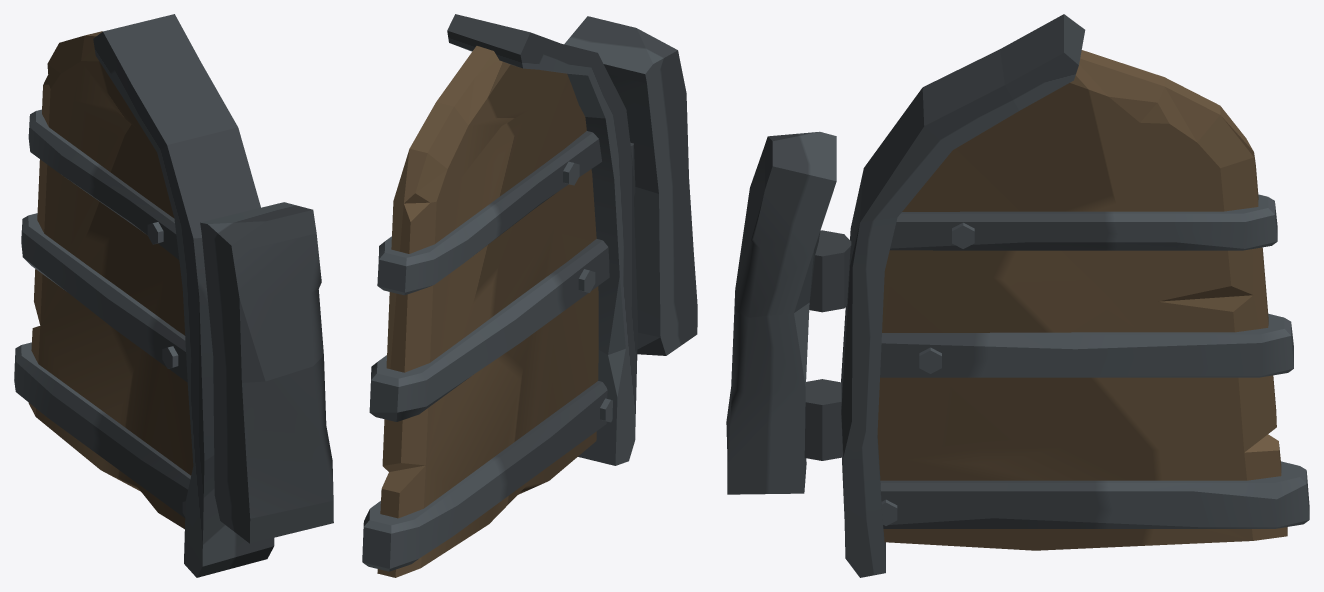
Rendered from SM_Veh_Ship_L_Rudder_01.fbx.
3 views of the same model, side by side, from view 1: azimuth 30°, elevation 25°; view 2: azimuth 150°, elevation 25°; view 3: azimuth 270°, elevation 25° (orthographic). The views are drawn at different scales.
Parts seen in each view (by area): view 1: SM_Veh_Ship_L_Rudder_01; view 2: SM_Veh_Ship_L_Rudder_01; view 3: SM_Veh_Ship_L_Rudder_01.
Boxes of the visible parts, x1,y1,x2,y2 form: SM_Veh_Ship_L_Rudder_01: (14,14,333,577); SM_Veh_Ship_L_Rudder_01: (362,14,697,577); SM_Veh_Ship_L_Rudder_01: (726,14,1309,577).
Size of the model in its own units: 78.03 by 424 by 426.
